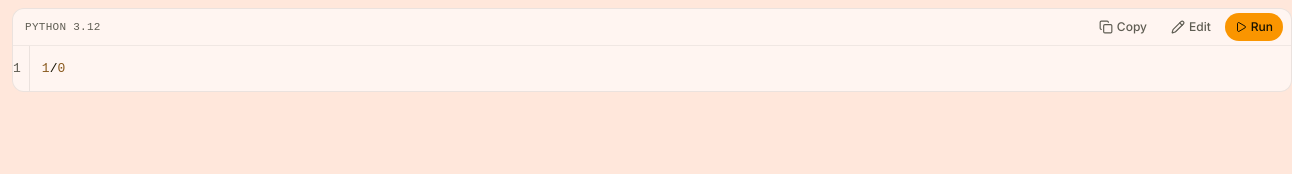
RunnableCodeBlock › shows stderr and the exit code for a failing program
The width and height of the screenshot is (1292, 174).
Click the button with aria-label "Run code".
click(1254, 27)  # box 1225,13 -> 1283,41
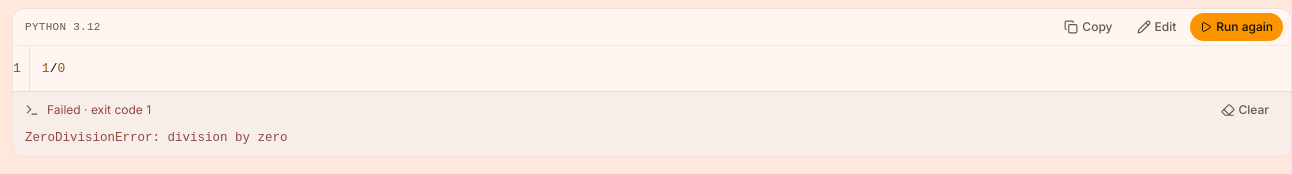
Expected: the text "ZeroDivisionError: division by zero" is shown, 25,131 -> 288,145
Expected: the message shows "exit code 1", 47,102 -> 151,117
